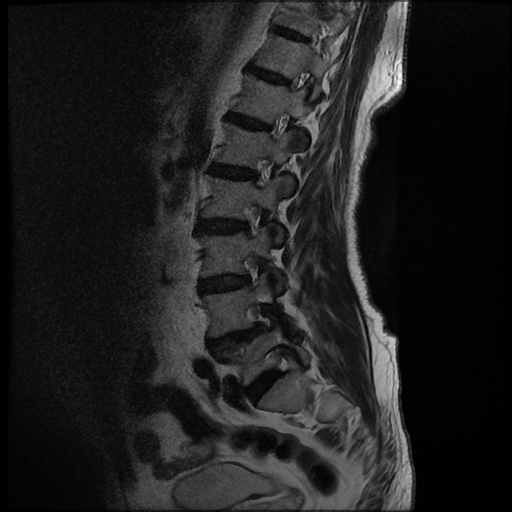LFS0: (238, 147, 283, 195), (230, 245, 273, 295), (233, 194, 276, 244), (240, 295, 282, 343)
